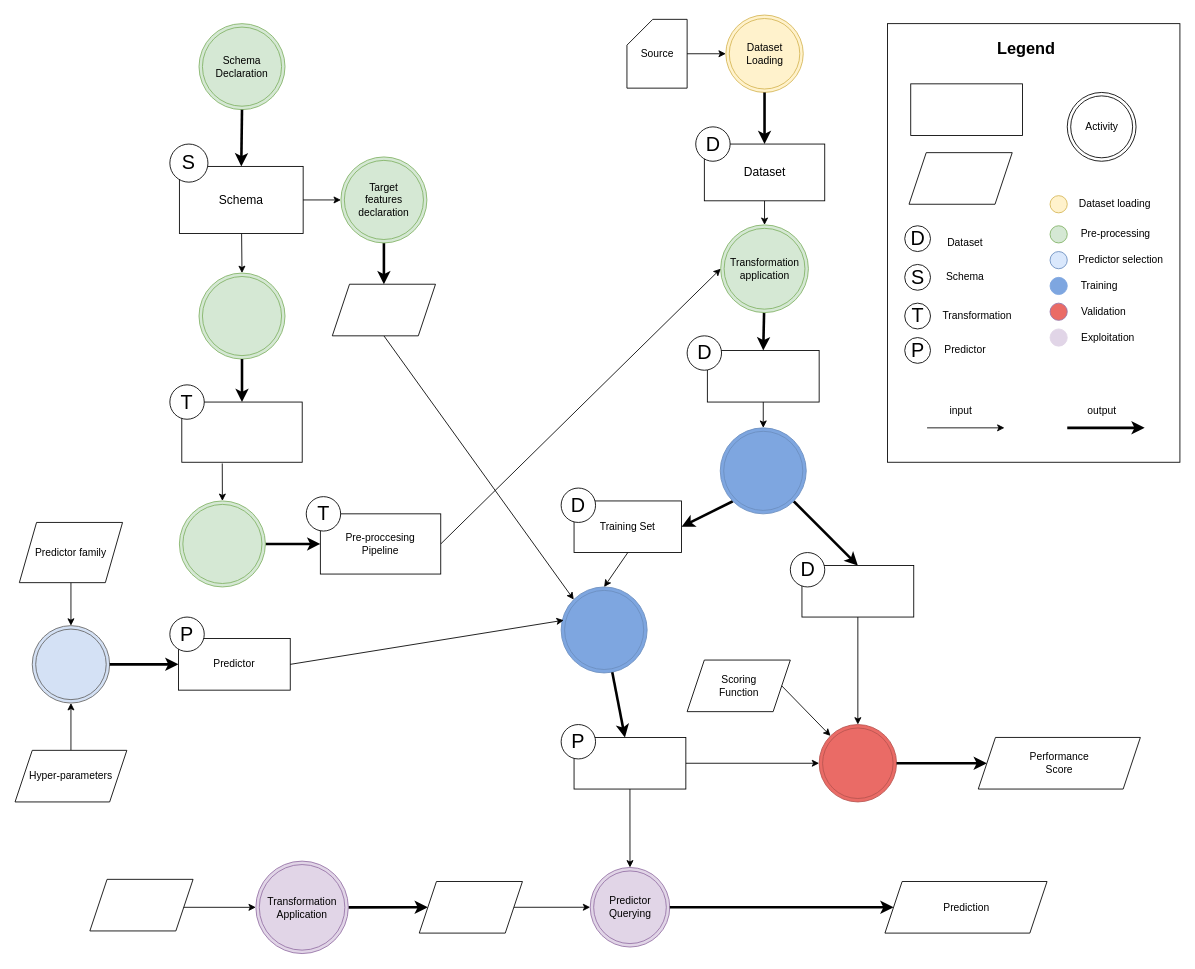
This 1195x969 diagram has some shape labels left out. The box of each missing label's shape, as (x1, y1, x2, y2) in pixels:
Dataset splitting: (719, 427, 806, 514)
Entity: (910, 83, 1023, 135)
Instance: (89, 878, 193, 931)
Pipeline Composition: (179, 500, 265, 587)
Pre-processed Dataset: (706, 350, 819, 402)
Pre-processed Instance: (418, 881, 522, 933)
Predictor declaration: (31, 625, 110, 703)
Predictor fitting: (560, 586, 647, 673)
Predictor Scoring: (818, 724, 897, 802)
Target features: (331, 283, 436, 336)
Test Set: (801, 565, 914, 617)
Trained predictor: (573, 737, 686, 789)
Transformation declaration: (198, 272, 285, 359)
Transformation i: (181, 401, 302, 462)
Value: (908, 152, 1012, 204)
